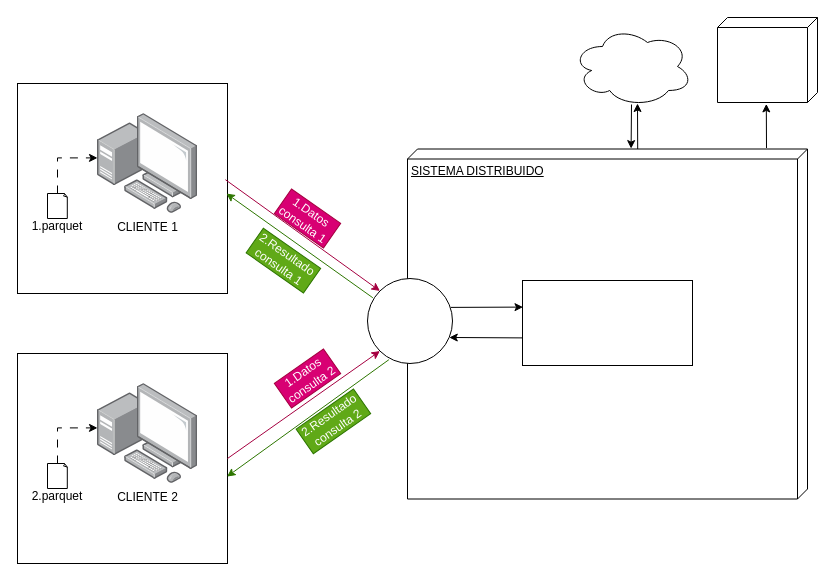
The diagram is 835 pixels wide and 581 high, and some of its shapes have lost their labels. Each missing label, with the box of its shape:
Interfaz de entrada: (366, 278, 452, 364)
LOG CONTROLLER: (716, 16, 818, 102)
Resolvedor de consultas: (522, 280, 692, 366)
Wikimedia: (572, 26, 692, 106)
